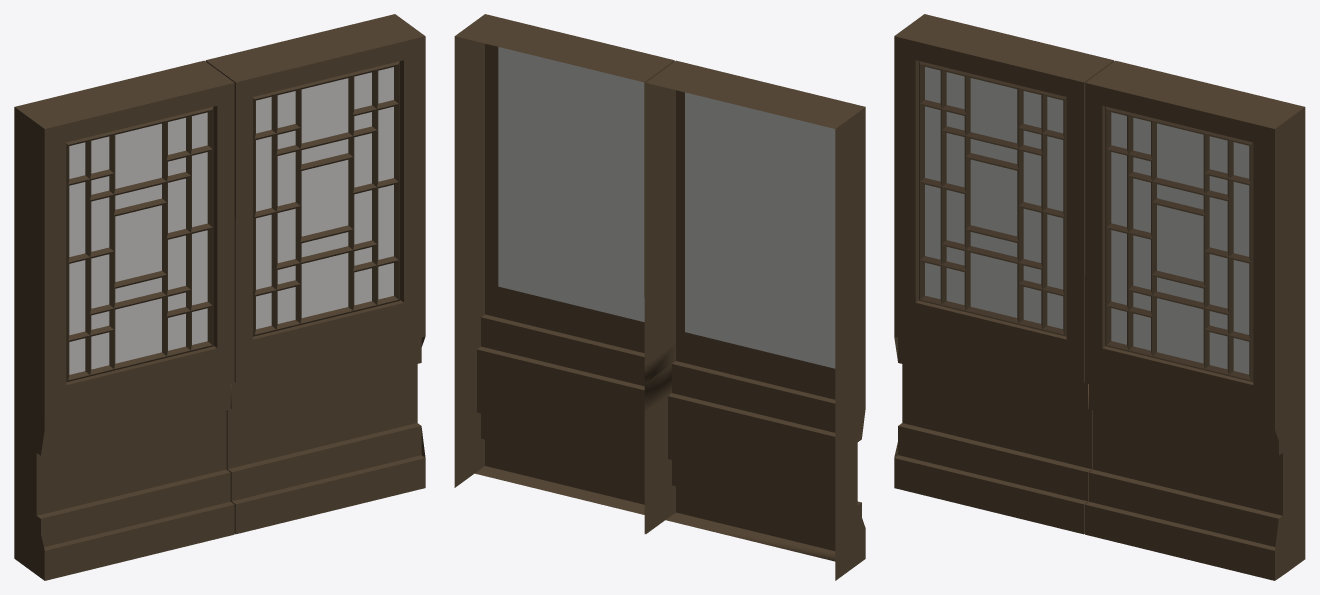
File: SM_Env_Door_08.fbx
The picture shows the model from 3 angles, left to right: view 1: azimuth 30°, elevation 25°; view 2: azimuth 150°, elevation 25°; view 3: azimuth 330°, elevation 25°; orthographic projection.
Parts seen in each view (by area): view 1: SM_Env_Door_08; view 2: SM_Env_Door_08; view 3: SM_Env_Door_08.
Part boxes in pixels (<box>): SM_Env_Door_08: <box>14,14,425,580</box>; SM_Env_Door_08: <box>454,14,865,580</box>; SM_Env_Door_08: <box>894,14,1305,580</box>.
Size of the model in its own units: 105 by 119 by 14.52.
1 material, 1 textured.
